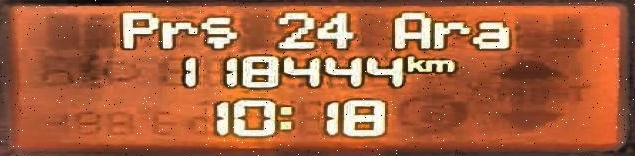0: (231, 97, 275, 138)
1: (210, 97, 230, 138), (319, 97, 338, 138), (178, 54, 199, 89), (220, 54, 240, 88)
2: (275, 9, 315, 50)
4: (316, 9, 355, 48), (362, 54, 406, 87), (280, 53, 322, 87), (323, 54, 362, 88)
8: (339, 96, 386, 138), (241, 53, 278, 88)
X: (118, 10, 157, 50), (390, 11, 429, 50), (197, 14, 239, 50), (471, 20, 510, 50), (158, 19, 195, 49), (430, 18, 466, 48), (277, 104, 297, 131), (423, 57, 451, 72), (405, 53, 422, 72)
